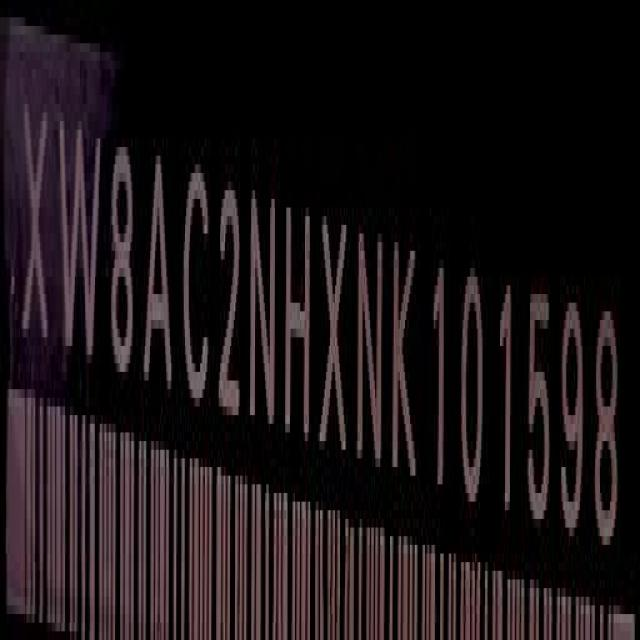0: (460, 256, 484, 509)
1: (498, 267, 518, 523), (431, 242, 447, 504)
2: (218, 173, 242, 430)
5: (528, 275, 553, 530)
8: (594, 298, 622, 553), (111, 137, 136, 387)
9: (559, 290, 583, 544)
A: (143, 146, 173, 404)
C: (184, 156, 214, 416)
H: (282, 195, 312, 458)
K: (395, 222, 419, 492)
N: (357, 206, 385, 480), (252, 176, 280, 440)
W: (57, 101, 101, 377)
X: (318, 185, 350, 468), (21, 75, 51, 364)
